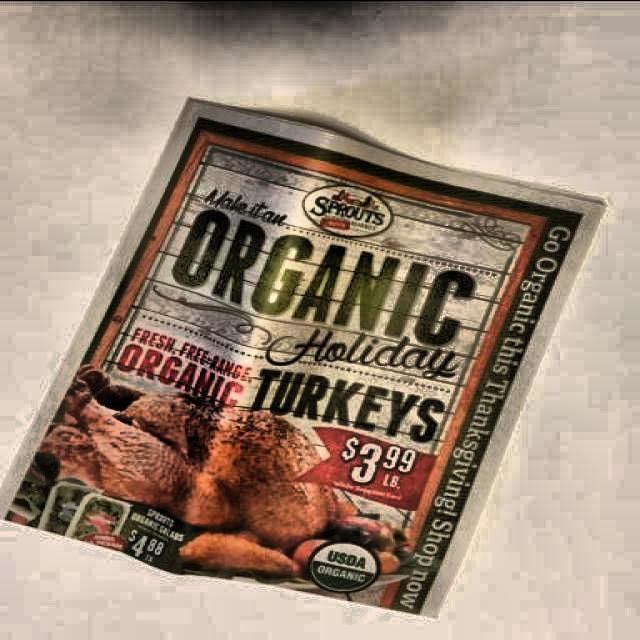cardboard: (5, 101, 605, 620)
